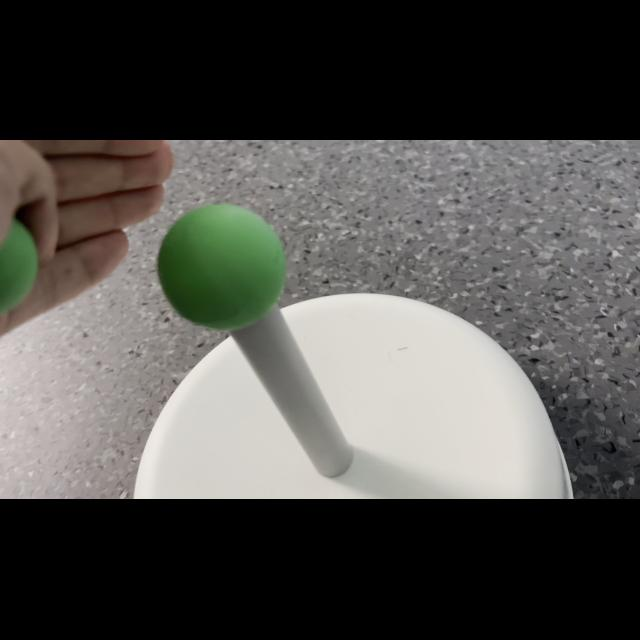objects: (151, 200, 291, 330)
